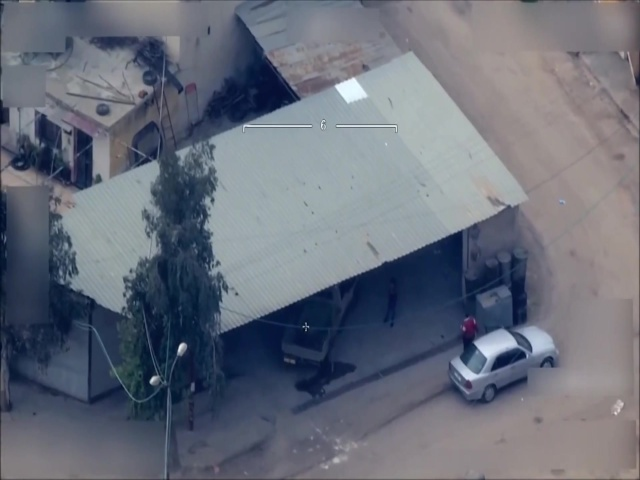person: (382, 277, 401, 329), (456, 311, 477, 349)
vehicle: (449, 324, 560, 403), (277, 291, 354, 368)
